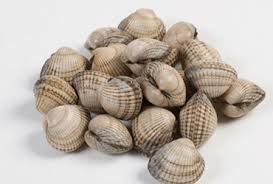cockle: (147, 137, 208, 184), (177, 88, 220, 147), (139, 59, 187, 108), (42, 104, 88, 151), (219, 76, 269, 119), (130, 107, 176, 153), (38, 46, 95, 83), (118, 38, 178, 73), (184, 61, 240, 97), (84, 114, 135, 153), (31, 74, 80, 114), (99, 74, 142, 119), (117, 8, 167, 41), (88, 43, 133, 78), (183, 38, 225, 68), (84, 26, 133, 47), (163, 20, 197, 49)
